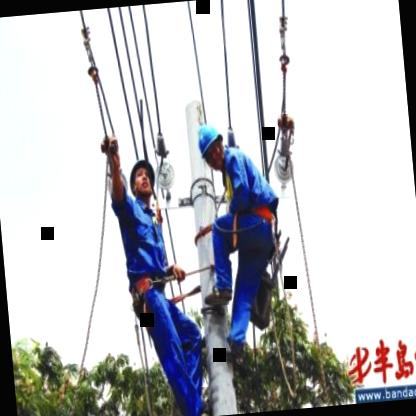helmet: (194, 120, 228, 170), (126, 152, 158, 202)
